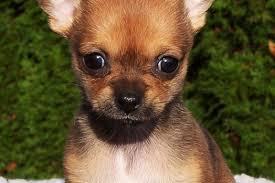chihuahua: (42, 1, 223, 183)
